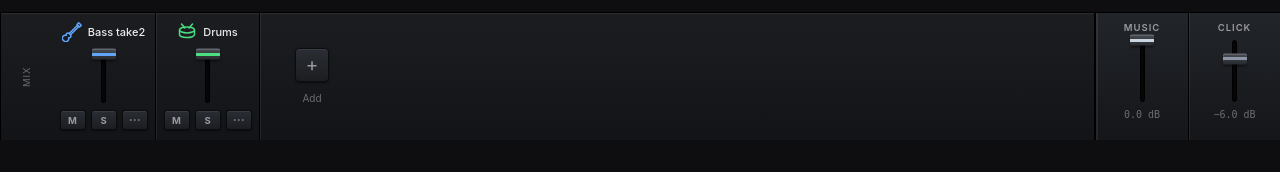
Test: while a channel is being split into stems › will not delete the channel it is reading
Click the button "⋯" below "Drums": click(238, 120) [226, 110, 252, 130]
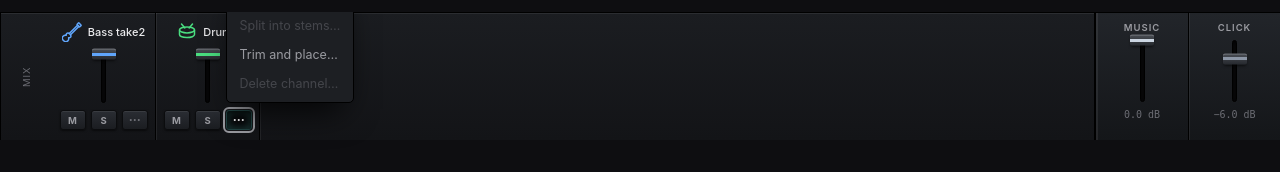
Expected: the menu item "Delete channel…" is disabled, [230, 69, 349, 98]
